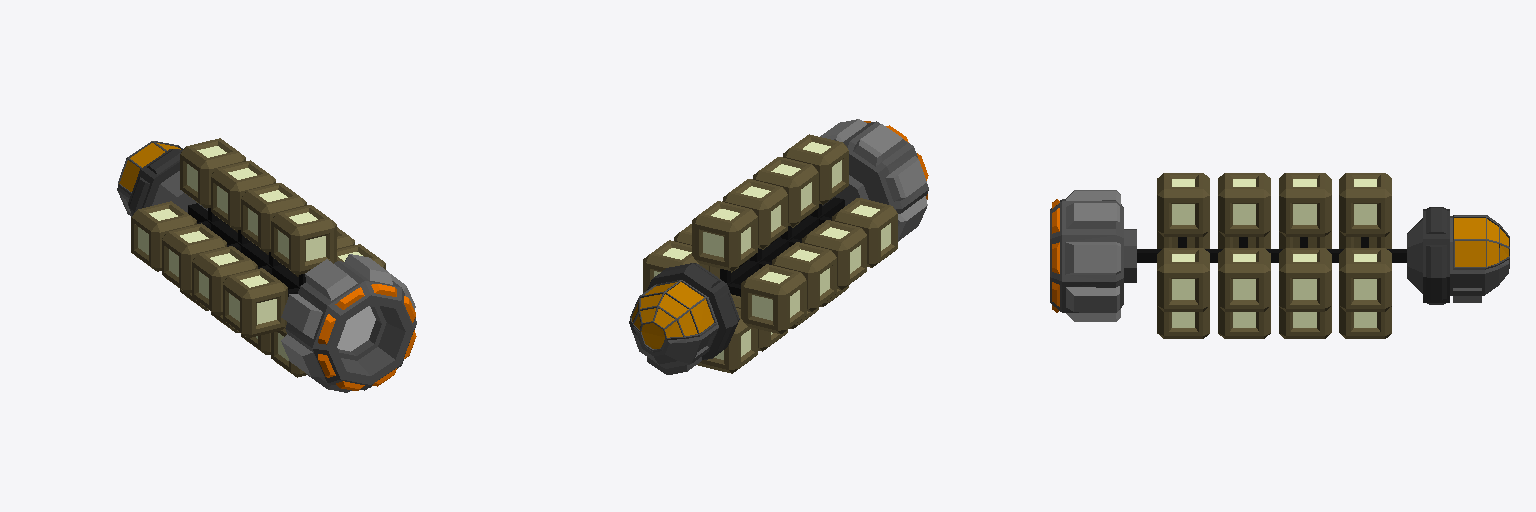
The picture shows the model from 3 angles: view 1: azimuth 30°, elevation 25°; view 2: azimuth 150°, elevation 25°; view 3: azimuth 270°, elevation 25°; orthographic projection.
Parts seen in each view (by area): view 1: Shipping_Frigate_Cylinder; view 2: Shipping_Frigate_Cylinder; view 3: Shipping_Frigate_Cylinder.
Part boxes in pixels (x1,y1,x2,y2): Shipping_Frigate_Cylinder: (117,138,416,392); Shipping_Frigate_Cylinder: (629,119,928,374); Shipping_Frigate_Cylinder: (1050,173,1509,338).
Bounding box in the file's own units: 19.16 × 19.16 × 53.15.
2 materials, 1 textured.